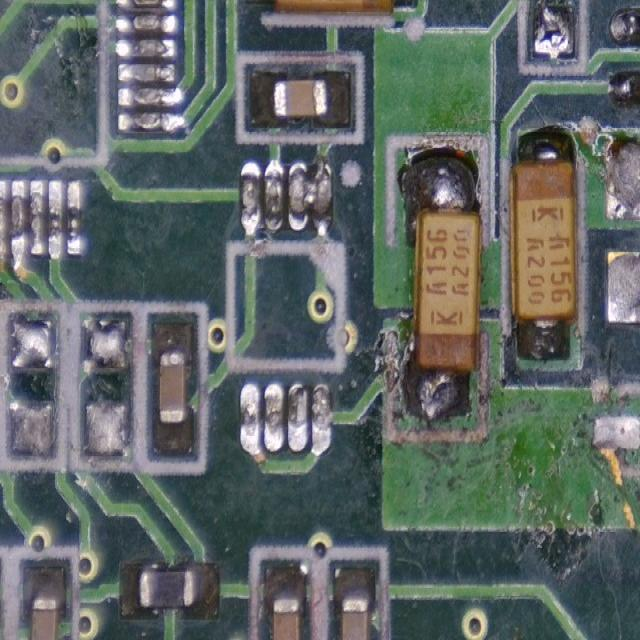Short_circuit: (288, 155, 332, 236)
